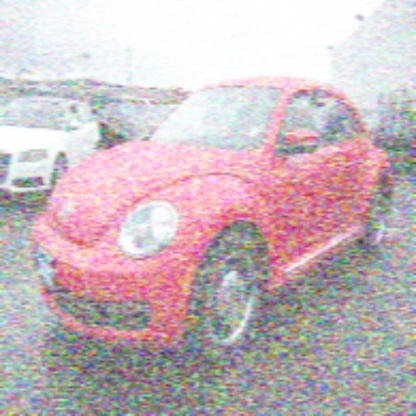Vehicle: (31, 77, 395, 360)
